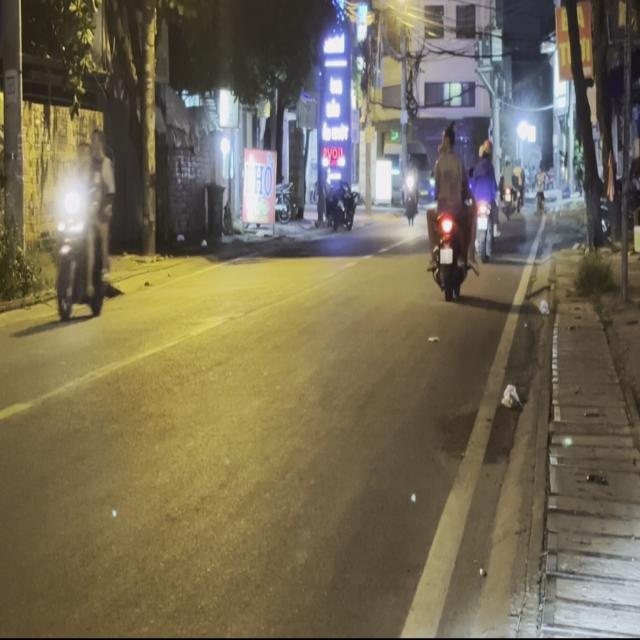helmet: (75, 134, 91, 166)
licenseplate: (50, 117, 117, 324)
motorcyclist: (88, 124, 105, 158)
